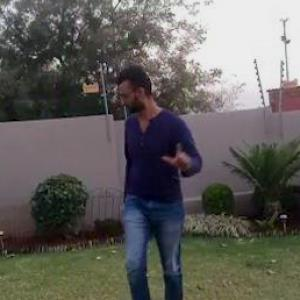land_hand: (159, 138, 192, 170)
